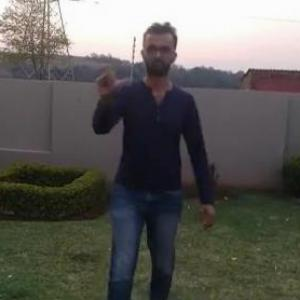land_hand: (97, 49, 140, 98)
